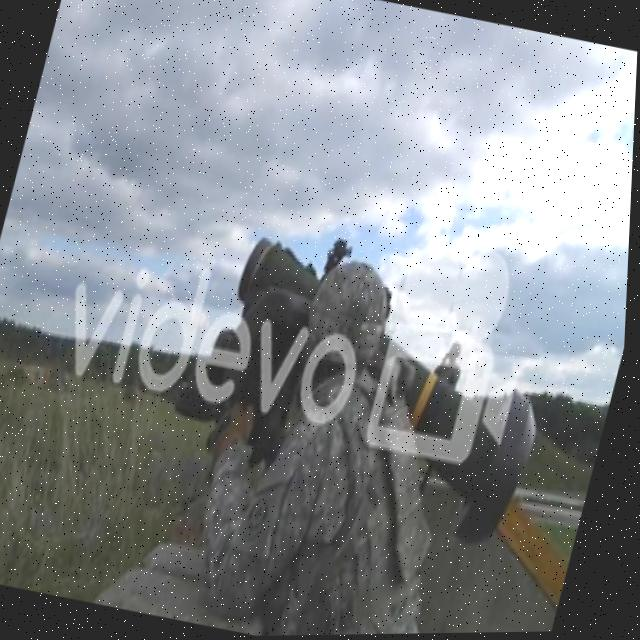rocket: (195, 237, 569, 551)
